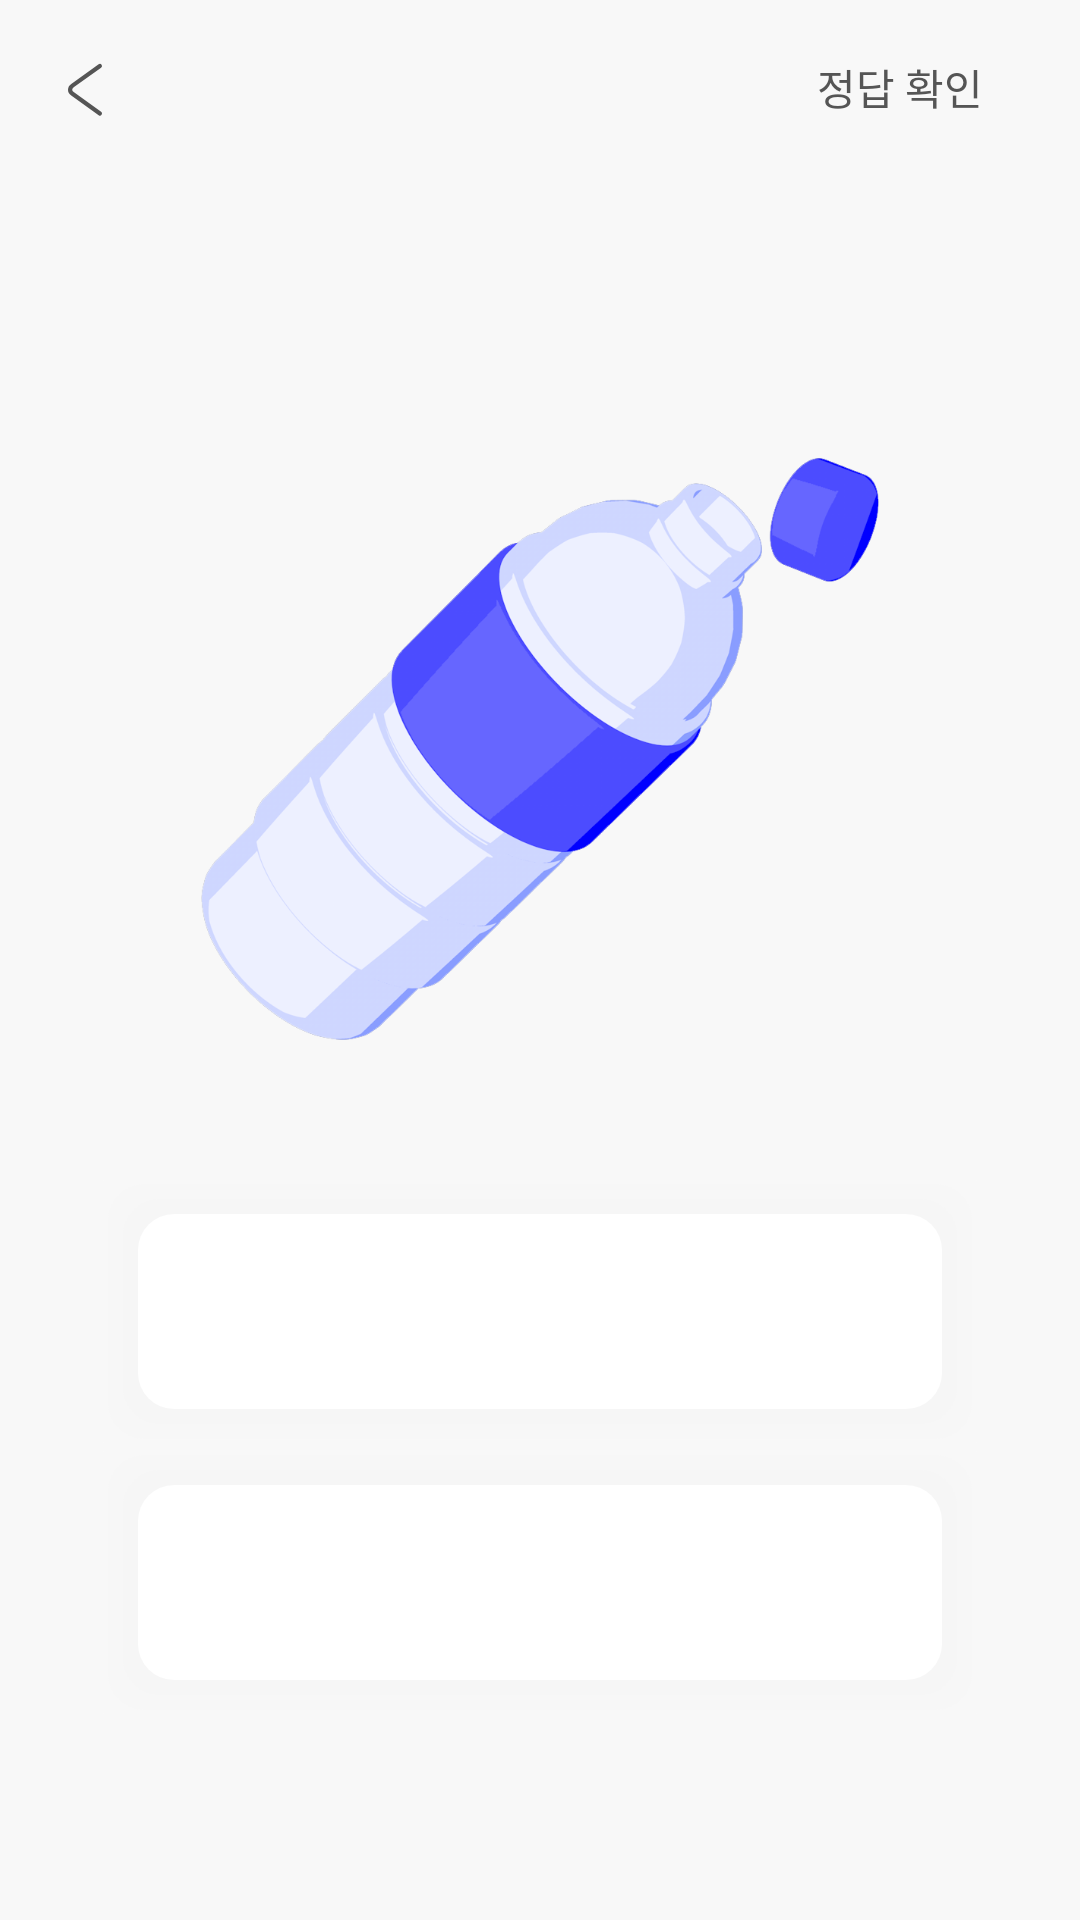

Screen size 1080 x 1920. Icon name, then its center in pixels as point (x, y):
arrow back: point (85, 90)
